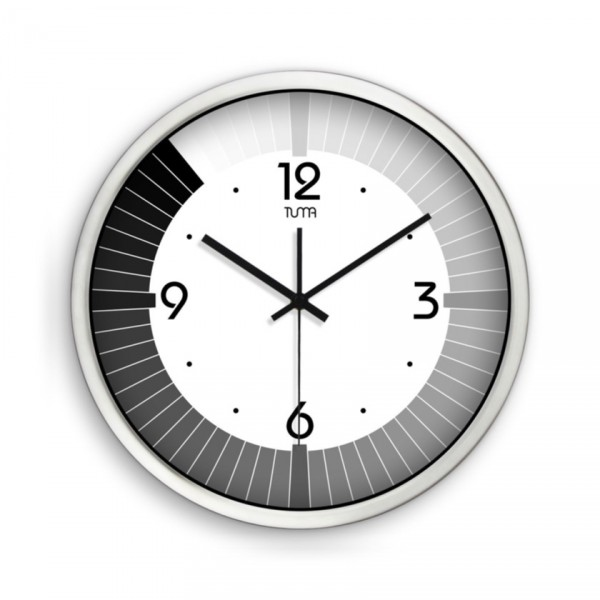clock: (93, 92, 513, 511)
